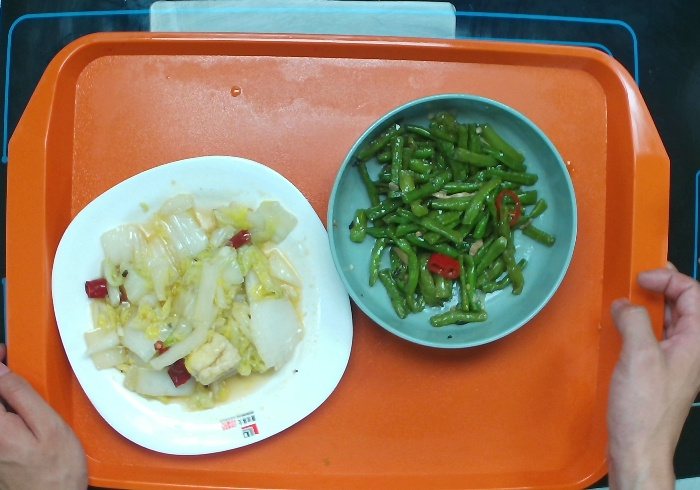ZNLD-Qing_Hua_Yuan_Wan: (321, 87, 581, 356)
ZNLD-Yuan_Jiao_Pan: (44, 149, 360, 458)
